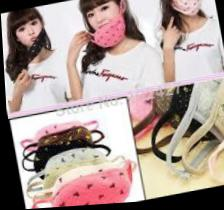OK: (172, 1, 207, 23)
WRONG: (86, 2, 122, 42), (14, 17, 46, 48)
